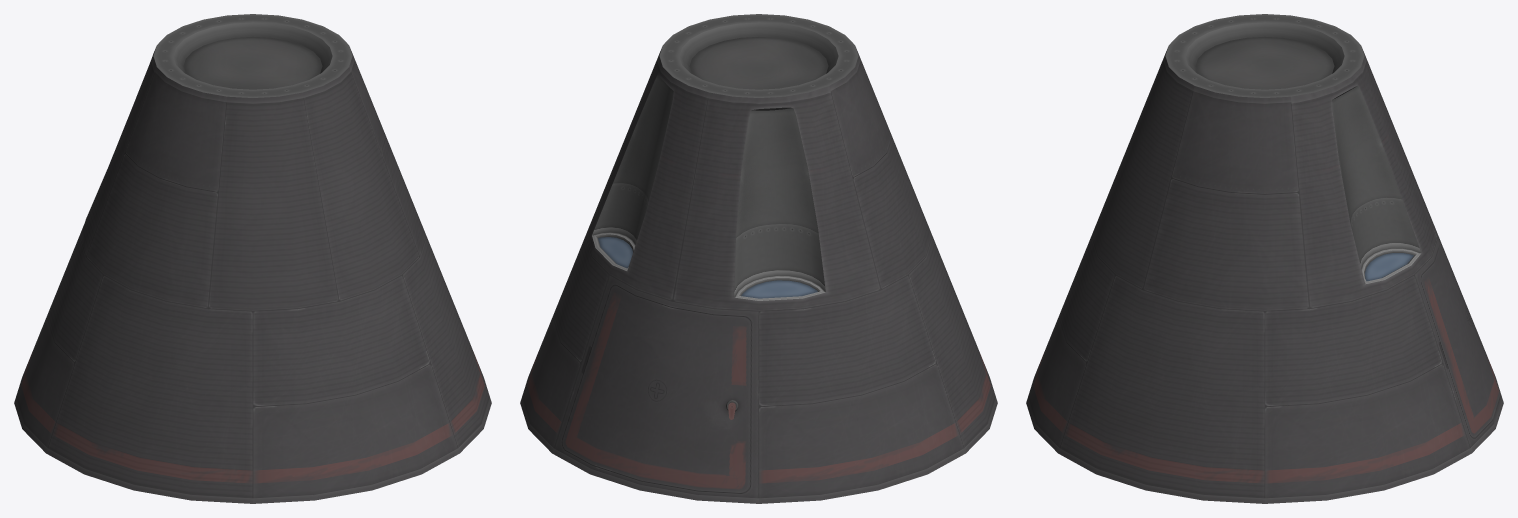
Rendered from Gemini_Crew_A.dae.
3 views of the same model, side by side, from view 1: azimuth 30°, elevation 25°; view 2: azimuth 150°, elevation 25°; view 3: azimuth 270°, elevation 25° (orthographic).
Parts seen in each view (by area): view 1: polySurface93; view 2: polySurface93, Gemini_Crew_A_Windows_Gemini_Crew_A_Windows_auv; view 3: polySurface93, Gemini_Crew_A_Windows_Gemini_Crew_A_Windows_auv.
Boxes of the visible parts, left/top/right/bottom form: polySurface93: left=14, top=14, right=491, bottom=503; polySurface93: left=520, top=14, right=997, bottom=503; Gemini_Crew_A_Windows_Gemini_Crew_A_Windows_auv: left=598, top=237, right=817, bottom=298; polySurface93: left=1026, top=14, right=1503, bottom=503; Gemini_Crew_A_Windows_Gemini_Crew_A_Windows_auv: left=1365, top=253, right=1413, bottom=281.
Size of the model in its own units: 1.5 by 1.2 by 1.5.
